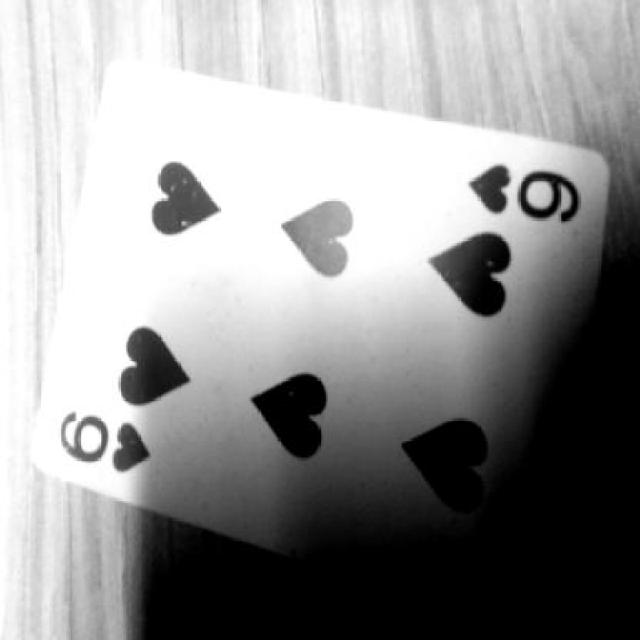6H: (443, 164, 611, 250), (47, 397, 165, 489)
